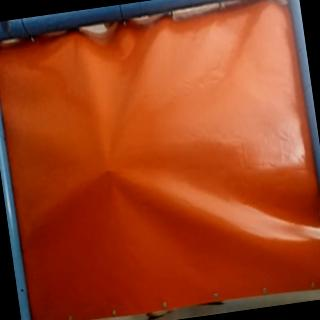Hit-hRxx: (99, 162, 118, 180)
